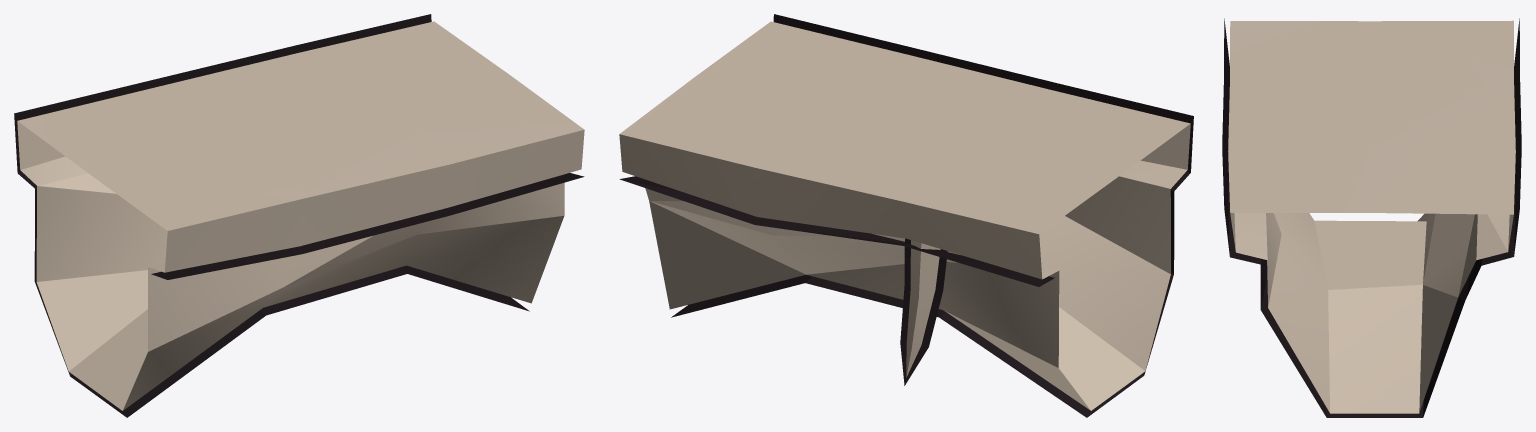
Rendered from SM_Trail_Deck_08.fbx.
The picture shows the model from 3 angles, left to right: view 1: azimuth 30°, elevation 25°; view 2: azimuth 150°, elevation 25°; view 3: azimuth 270°, elevation 25°; orthographic projection. The views are drawn at different scales.
Parts seen in each view (by area): view 1: SM_Trail_Deck_08; view 2: SM_Trail_Deck_08; view 3: SM_Trail_Deck_08.
Part boxes in pixels (x1=…): SM_Trail_Deck_08: x1=14, y1=14, x2=584, y2=417; SM_Trail_Deck_08: x1=619, y1=14, x2=1193, y2=417; SM_Trail_Deck_08: x1=1222, y1=18, x2=1521, y2=417.
Bounding box in the file's own units: 8.01 × 4.16 × 5.28.
